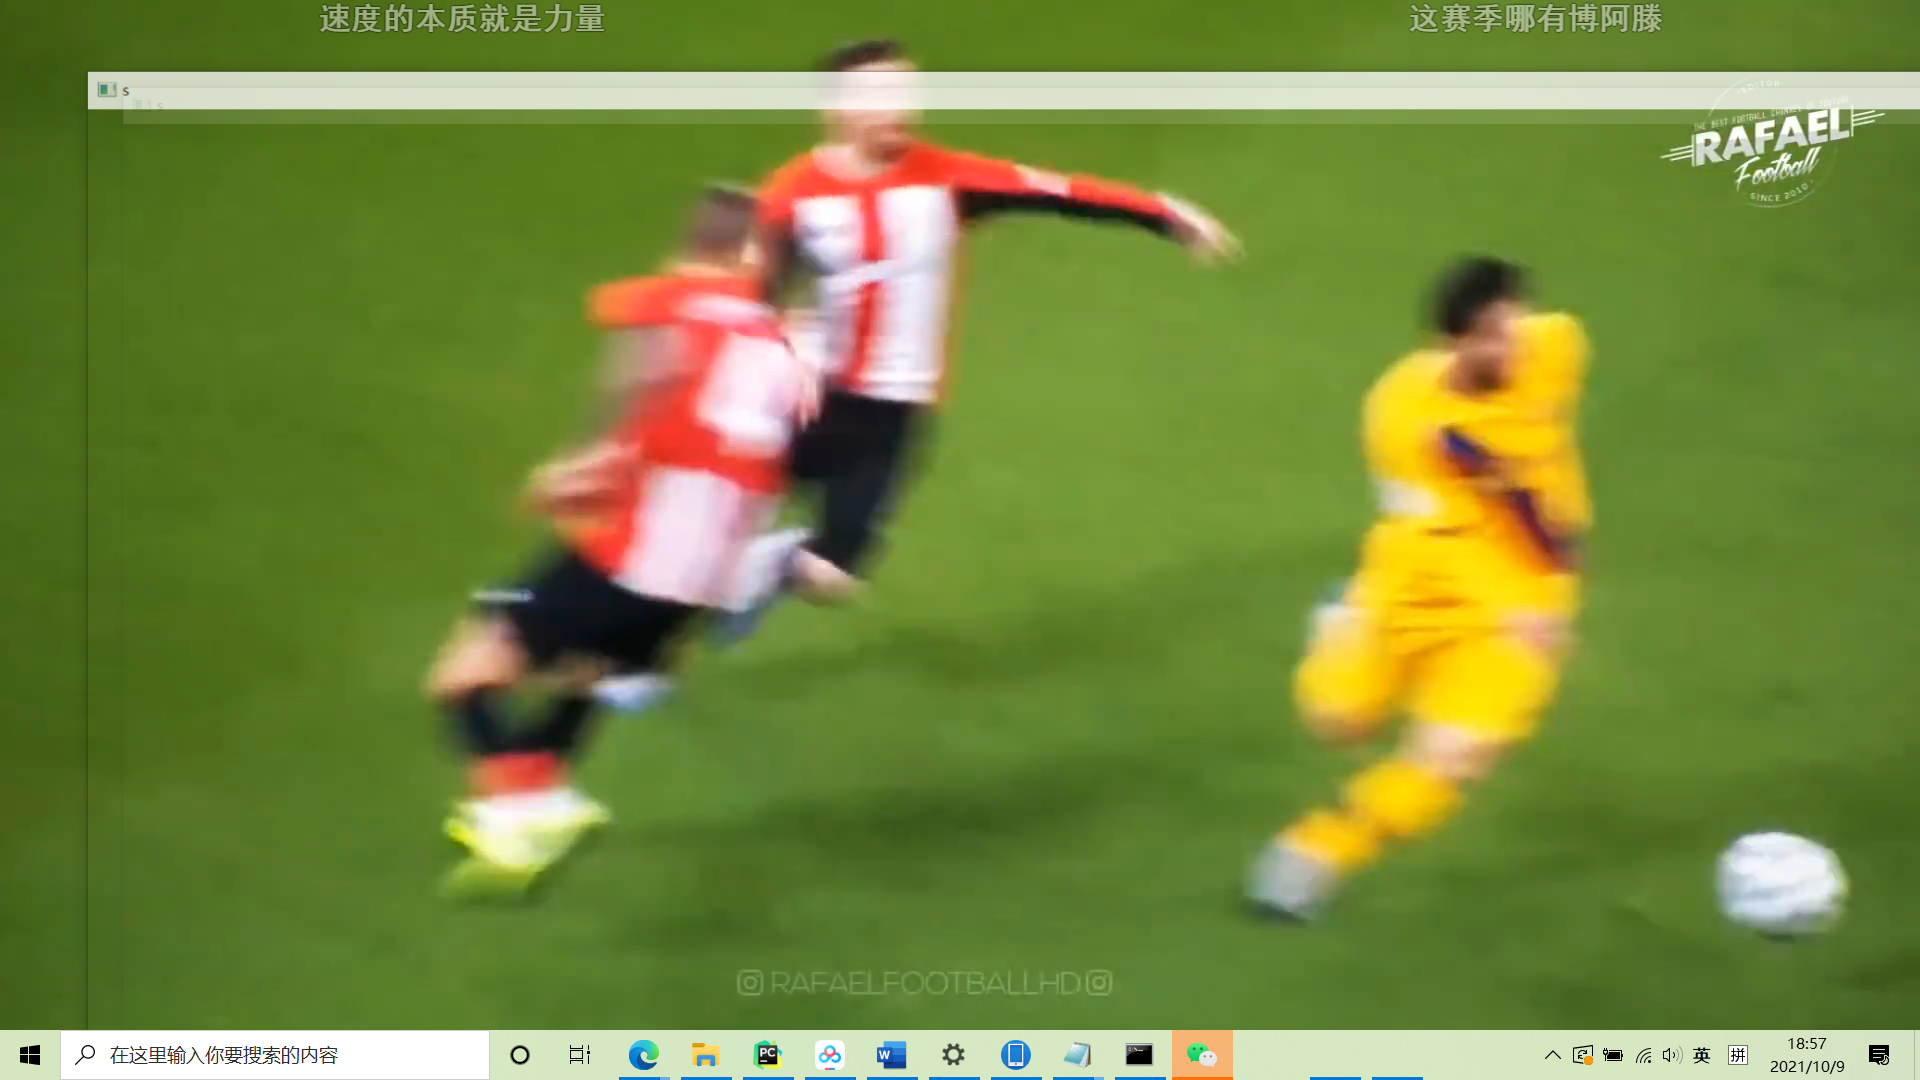ft: (1708, 814, 1855, 960)
